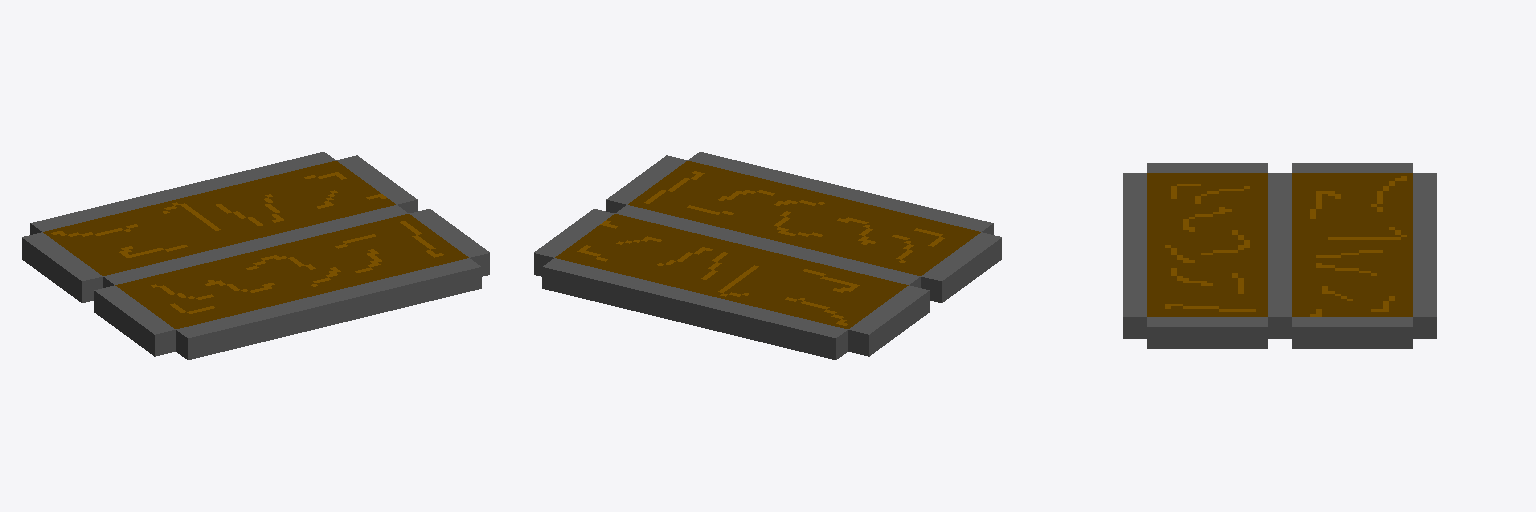
3 views of the same model, side by side, from view 1: azimuth 30°, elevation 25°; view 2: azimuth 150°, elevation 25°; view 3: azimuth 270°, elevation 25° (orthographic).
Visible parts, largest first — view 1: object 1; view 2: object 1; view 3: object 1.
Boxes of the visible parts, x1=… form: object 1: x1=22, y1=152, x2=489, y2=359; object 1: x1=534, y1=152, x2=1001, y2=359; object 1: x1=1123, y1=163, x2=1436, y2=348.
Size of the model in its own units: 6.4 by 0.4 by 5.2.
1 materials, 1 textured.